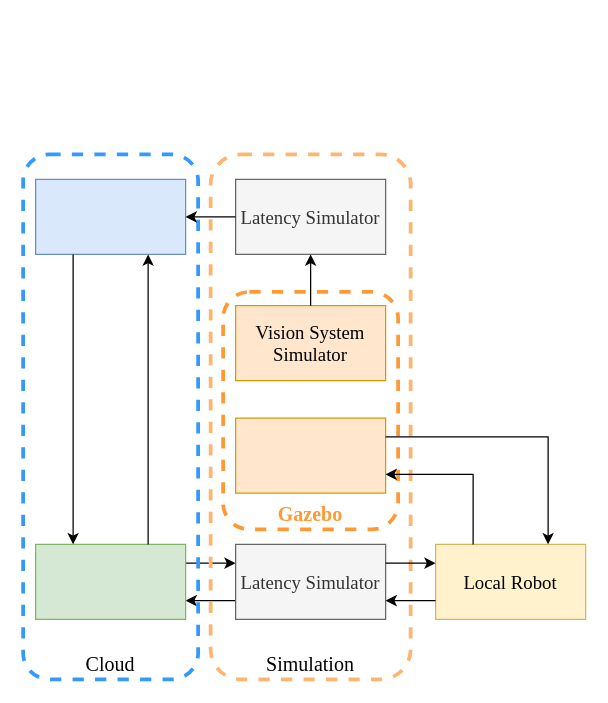
The diagram is 608 pixels wide and 703 high, and some of its shapes have lost their labels. The shapes that lost their labels are listed below. From the top down, each one's centre as x and y in pixels, then its label:
pixel 110 216: Robot Manager
pixel 310 455: Motion Simulator
pixel 110 581: Cluster Robot
